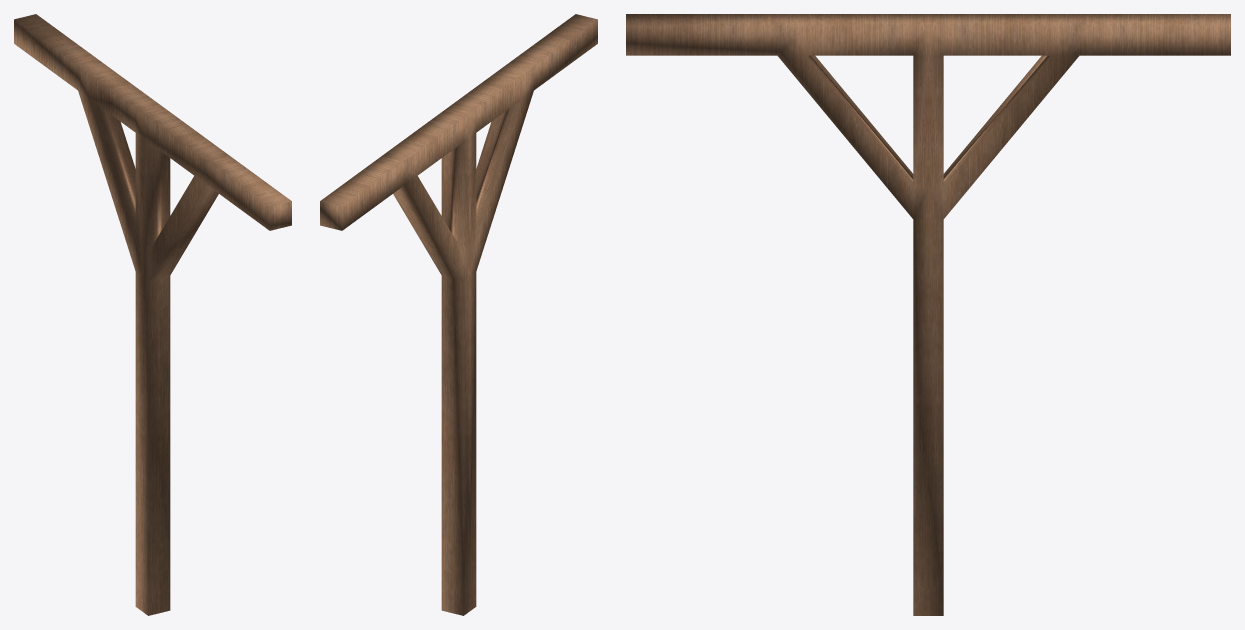
The picture shows the model from 3 angles, left to right: view 1: azimuth 30°, elevation 25°; view 2: azimuth 150°, elevation 25°; view 3: azimuth 270°, elevation 25°; orthographic projection. The views are drawn at different scales.
Visible parts, largest first — view 1: Cube154_Wood_02001_0; view 2: Cube154_Wood_02001_0; view 3: Cube154_Wood_02001_0.
Boxes of the visible parts, x1,y1,x2,y2 form: Cube154_Wood_02001_0: (14, 14, 291, 615); Cube154_Wood_02001_0: (320, 14, 597, 615); Cube154_Wood_02001_0: (626, 14, 1230, 615).
Bounding box in the file's own units: 0.2 × 4.3 × 4.
1 material, 1 textured.
